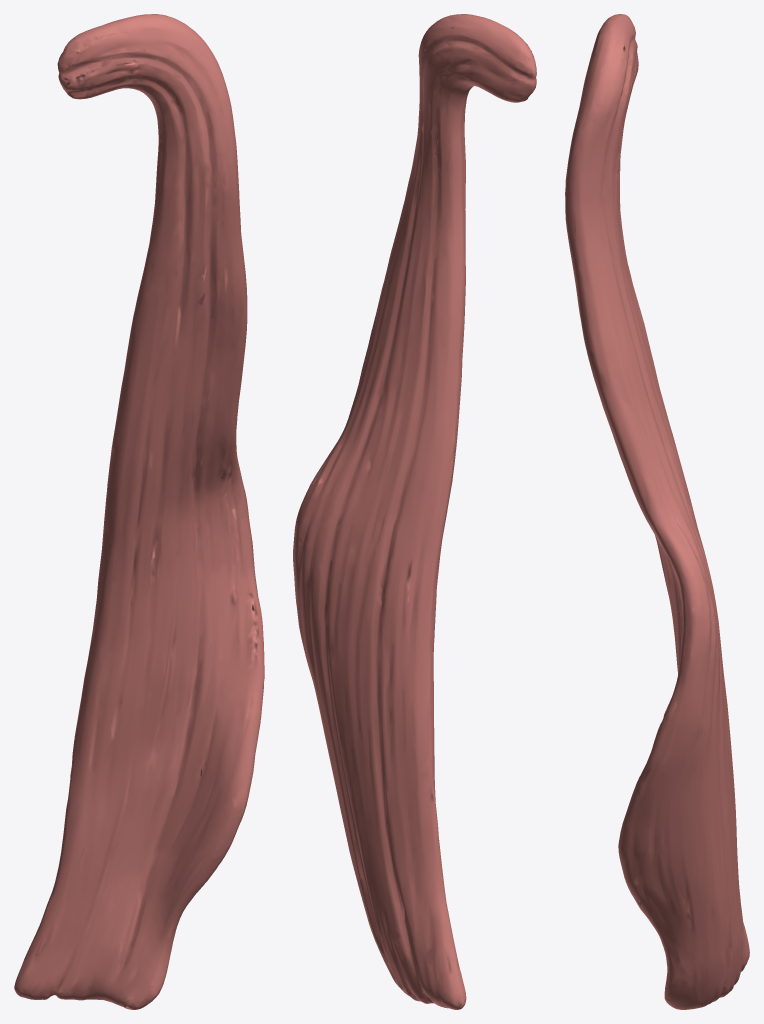
The picture shows the model from 3 angles, left to right: view 1: azimuth 30°, elevation 25°; view 2: azimuth 150°, elevation 25°; view 3: azimuth 270°, elevation 25°; orthographic projection. The views are drawn at different scales.
Visible parts, largest first — view 1: ZA_71cc4d76b2f055b0; view 2: ZA_71cc4d76b2f055b0; view 3: ZA_71cc4d76b2f055b0.
Part boxes in pixels (<box>): ZA_71cc4d76b2f055b0: <box>14,14,264,1009</box>; ZA_71cc4d76b2f055b0: <box>293,14,536,1009</box>; ZA_71cc4d76b2f055b0: <box>565,14,749,1009</box>.
Size of the model in its own units: 0.0205 by 0.088 by 0.0153.
